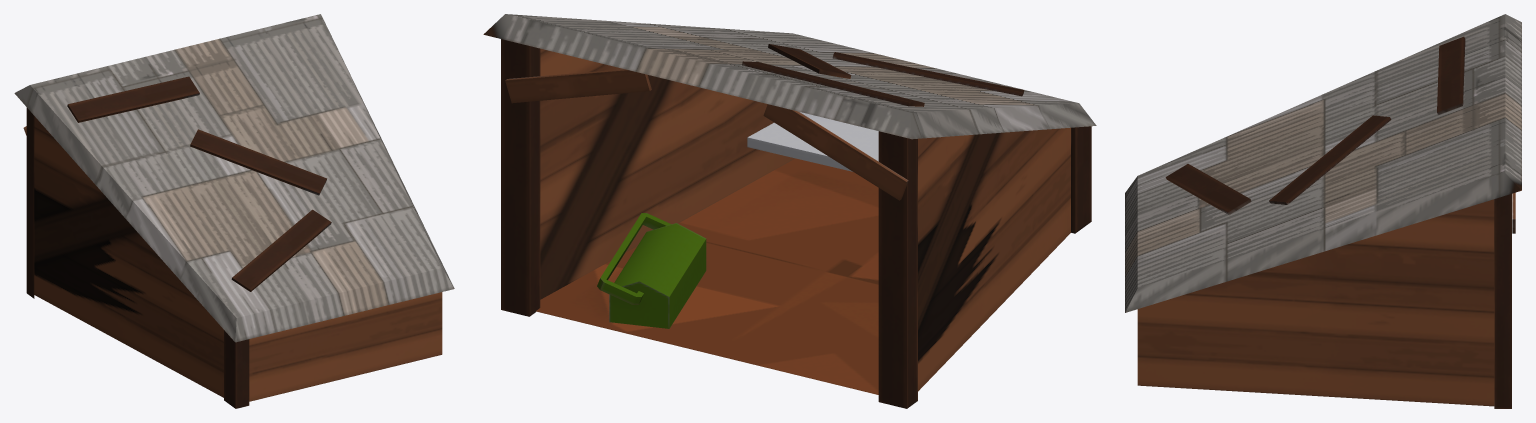
The model's file is HD_Build_House_Workshed_2x2_Mesh001.FBX.
3 views of the same model, side by side, from view 1: azimuth 30°, elevation 25°; view 2: azimuth 150°, elevation 25°; view 3: azimuth 270°, elevation 25° (orthographic). The views are drawn at different scales.
Visible parts, largest first — view 1: HD_Build_House_Workshed_Mesh003; view 2: HD_Build_House_Workshed_Mesh003; view 3: HD_Build_House_Workshed_Mesh003.
Boxes of the visible parts, x1,y1,x2,y2 form: HD_Build_House_Workshed_Mesh003: (14,14,454,408); HD_Build_House_Workshed_Mesh003: (483,14,1096,408); HD_Build_House_Workshed_Mesh003: (1125,14,1521,408).
Bounding box in the file's own units: 163 × 106 × 162.
Materials: 1 (1 with a texture image).
